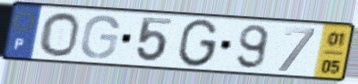5: (135, 16, 176, 65)
7: (277, 25, 318, 73)
9: (235, 23, 271, 71)
G: (175, 17, 221, 69), (78, 14, 122, 61)
O: (38, 11, 82, 59)
